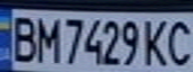2: (100, 16, 124, 66)
4: (81, 16, 103, 65)
7: (60, 15, 84, 65)
9: (118, 16, 142, 68)
B: (6, 12, 39, 63)
C: (163, 16, 193, 68)
K: (139, 16, 172, 68)
M: (33, 13, 60, 64)
